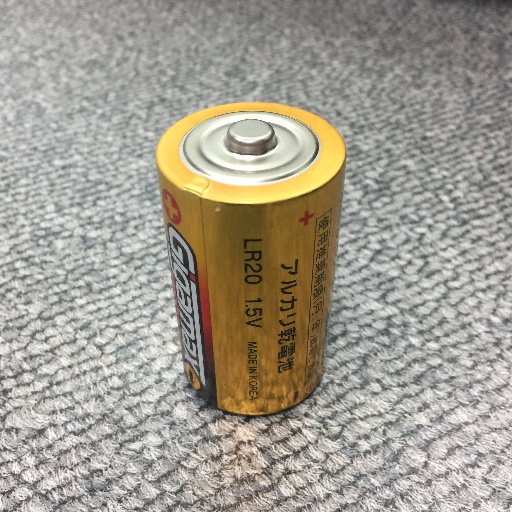Battery_0: (145, 94, 356, 427)
